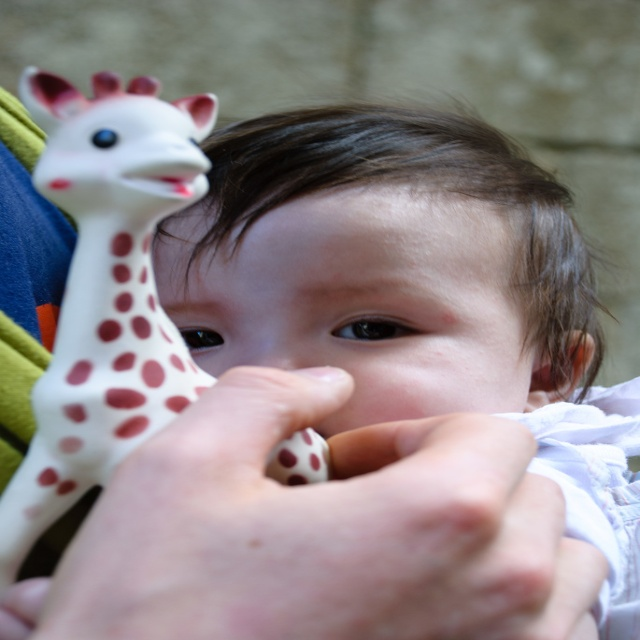Giraffe: (0, 60, 336, 584)
